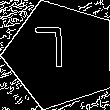L_S: (44, 29, 77, 80)
